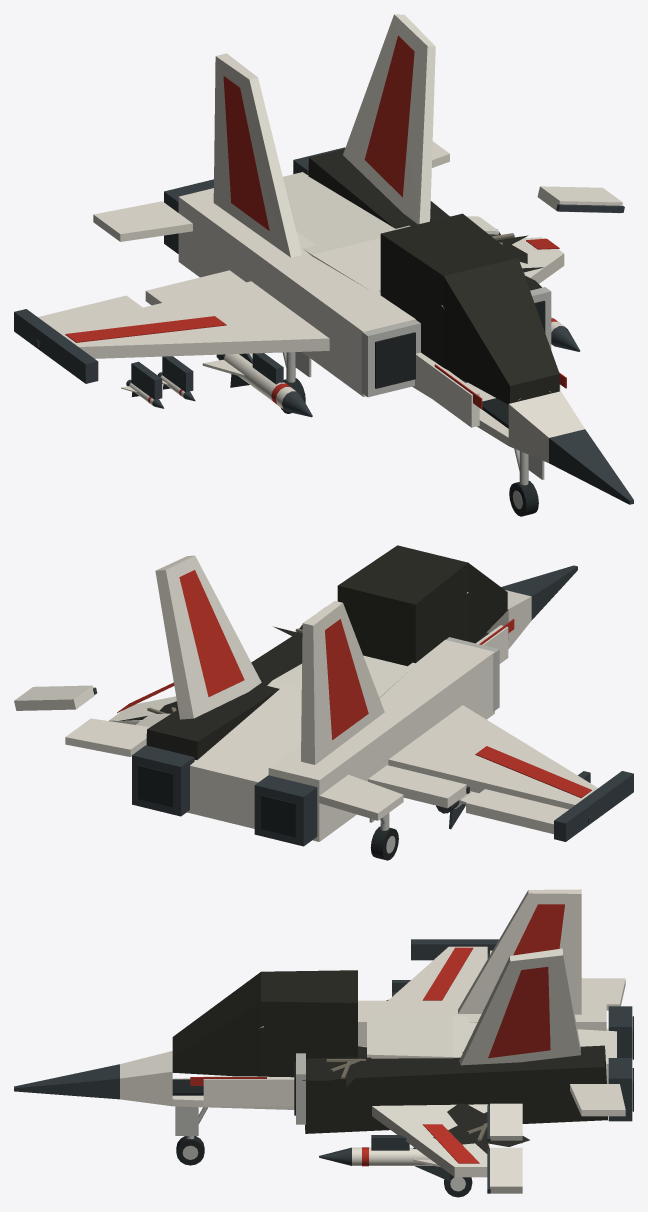
3 renders of one model, top to bottom at view 1: azimuth 30°, elevation 25°; view 2: azimuth 150°, elevation 25°; view 3: azimuth 270°, elevation 25°, orthographic. The views are drawn at different scales.
Visible parts, largest first — view 1: jet-b-damaged-fleet-armor, jet-b-damaged-fleet-damage-charred, jet-b-damaged-fleet-red, jet-b-damaged-fleet-machine, jet-b-damaged-fleet-rubber, elevator-left-fleet-armor, jet-b-damaged-fleet-edge, store-left-large-painted, aileron-right-painted, flap-left-painted, aileron-left-painted, gear-wheel-nose-0-0-painted; view 2: jet-b-damaged-fleet-armor, jet-b-damaged-fleet-damage-charred, jet-b-damaged-fleet-machine, jet-b-damaged-fleet-red, aileron-left-painted, jet-b-damaged-fleet-rubber, flap-left-painted, elevator-left-fleet-armor, elevator-right-fleet-armor, aileron-right-painted, gear-wheel-left-0-0-painted, jet-b-damaged-fleet-edge (+1 smaller); view 3: jet-b-damaged-fleet-damage-charred, jet-b-damaged-fleet-armor, jet-b-damaged-fleet-red, jet-b-damaged-fleet-machine, store-right-large-painted, aileron-right-painted, elevator-right-fleet-armor, flap-right-painted, elevator-left-fleet-armor, landing-gear-nose-fleet-edge, jet-b-damaged-fleet-rubber, jet-b-damaged-fleet-edge (+2 smaller).
Boxes of the visible parts, box(x1,y1,x2,y2) form: jet-b-damaged-fleet-armor: box(54, 14, 584, 462); jet-b-damaged-fleet-damage-charred: box(308, 149, 559, 404); jet-b-damaged-fleet-red: box(65, 35, 566, 409); jet-b-damaged-fleet-machine: box(14, 147, 633, 504); jet-b-damaged-fleet-rubber: box(375, 301, 545, 428); elevator-left-fleet-armor: box(93, 201, 192, 241); jet-b-damaged-fleet-edge: box(361, 287, 551, 397); store-left-large-painted: box(202, 353, 312, 417); aileron-right-painted: box(537, 186, 624, 213); flap-left-painted: box(145, 270, 245, 305); aileron-left-painted: box(36, 295, 142, 347); gear-wheel-nose-0-0-painted: box(509, 481, 538, 516); jet-b-damaged-fleet-armor: box(109, 555, 597, 841); jet-b-damaged-fleet-damage-charred: box(120, 545, 507, 759); jet-b-damaged-fleet-machine: box(132, 565, 633, 846); jet-b-damaged-fleet-red: box(117, 570, 591, 798); aileron-left-painted: box(466, 789, 590, 834); jet-b-damaged-fleet-rubber: box(138, 632, 488, 837); flap-left-painted: box(368, 765, 469, 808); elevator-left-fleet-armor: box(319, 774, 403, 820); elevator-right-fleet-armor: box(65, 718, 149, 756); aileron-right-painted: box(14, 685, 97, 710); gear-wheel-left-0-0-painted: box(370, 826, 398, 860); jet-b-damaged-fleet-edge: box(320, 607, 499, 711); jet-b-damaged-fleet-damage-charred: box(172, 970, 607, 1153); jet-b-damaged-fleet-armor: box(120, 889, 616, 1177); jet-b-damaged-fleet-red: box(190, 904, 564, 1163); jet-b-damaged-fleet-machine: box(14, 939, 632, 1150); store-right-large-painted: box(319, 1147, 450, 1181); aileron-right-painted: box(487, 1147, 522, 1193); elevator-right-fleet-armor: box(570, 1084, 625, 1116); flap-right-painted: box(487, 1103, 522, 1143); elevator-left-fleet-armor: box(581, 978, 625, 1010); landing-gear-nose-fleet-edge: box(175, 1106, 207, 1139); jet-b-damaged-fleet-rubber: box(172, 1016, 633, 1115); jet-b-damaged-fleet-edge: box(296, 1053, 305, 1124).
Bounding box in the file's own units: 48.99 × 24.7 × 54.74.
